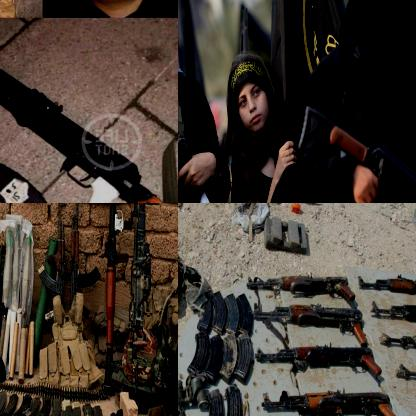rifle: (0, 24, 177, 202), (326, 118, 415, 202), (101, 203, 132, 392), (249, 300, 368, 344), (250, 341, 382, 377), (258, 386, 402, 415), (131, 203, 159, 344), (240, 272, 356, 303), (71, 203, 101, 320), (36, 203, 64, 321), (354, 270, 415, 303), (365, 299, 415, 328), (375, 326, 415, 350), (392, 359, 415, 389)
